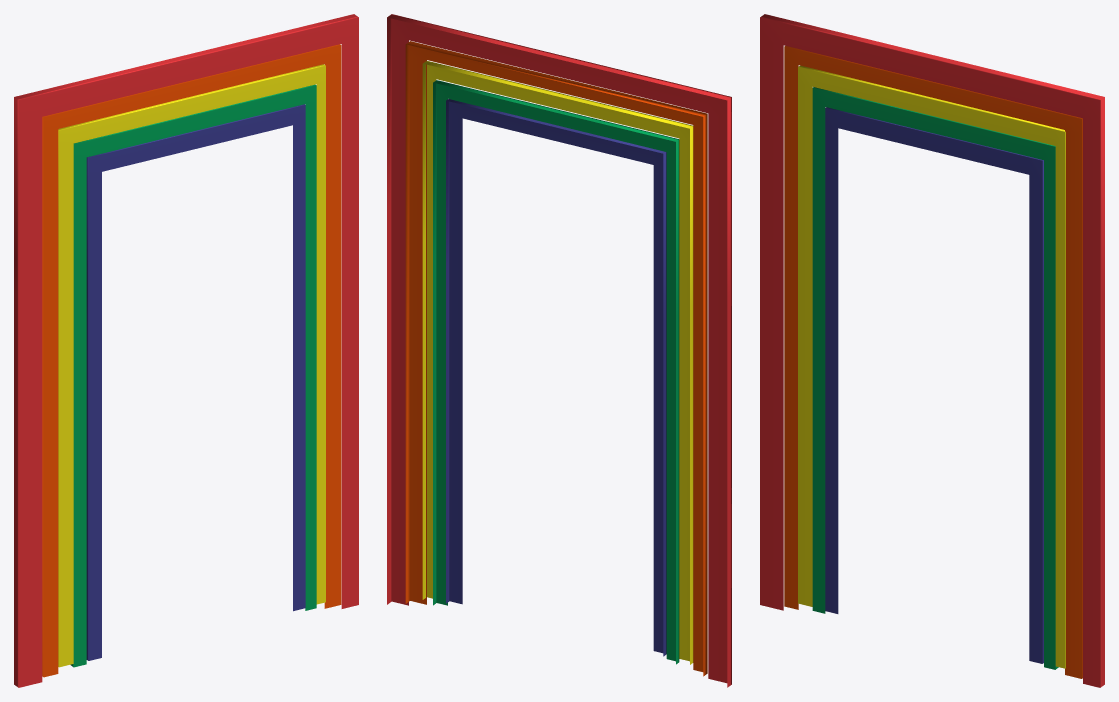
File: espelhopadrao.fbx
3 renders of one model, left to right at view 1: azimuth 30°, elevation 25°; view 2: azimuth 150°, elevation 25°; view 3: azimuth 330°, elevation 25°, orthographic.
Parts seen in each view (by area): view 1: vermelho_003, laranja_003, amarelo_002, azul_003, verde_003; view 2: vermelho_003, laranja_003, azul_003, verde_003, amarelo_002; view 3: vermelho_003, laranja_003, amarelo_002, azul_003, verde_003.
Boxes of the visible parts, x1,y1,x2,y2 form: vermelho_003: (14, 14, 358, 687); laranja_003: (42, 44, 341, 677); amarelo_002: (58, 64, 325, 667); azul_003: (86, 104, 305, 660); verde_003: (70, 84, 316, 667); vermelho_003: (387, 14, 731, 687); laranja_003: (405, 41, 707, 676); azul_003: (446, 99, 666, 656); verde_003: (433, 80, 679, 664); amarelo_002: (422, 61, 693, 664); vermelho_003: (760, 14, 1104, 687); laranja_003: (784, 46, 1082, 678); amarelo_002: (798, 65, 1065, 668); azul_003: (825, 107, 1043, 663); verde_003: (812, 87, 1058, 669).
Bounding box in the file's own units: 4.45 × 7.35 × 0.1606.
